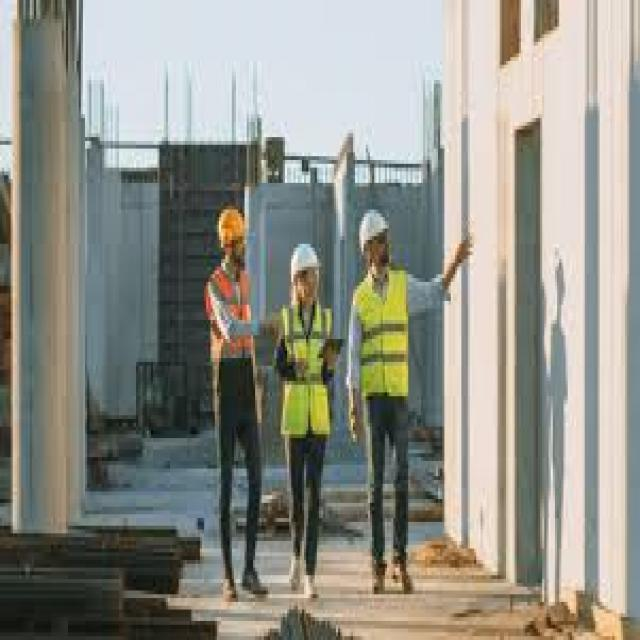Reflective-Jacket: (353, 263, 417, 411), (276, 294, 336, 449), (204, 263, 257, 369)
Safety-Helmet: (215, 198, 249, 255), (358, 202, 393, 251), (287, 236, 321, 278)
